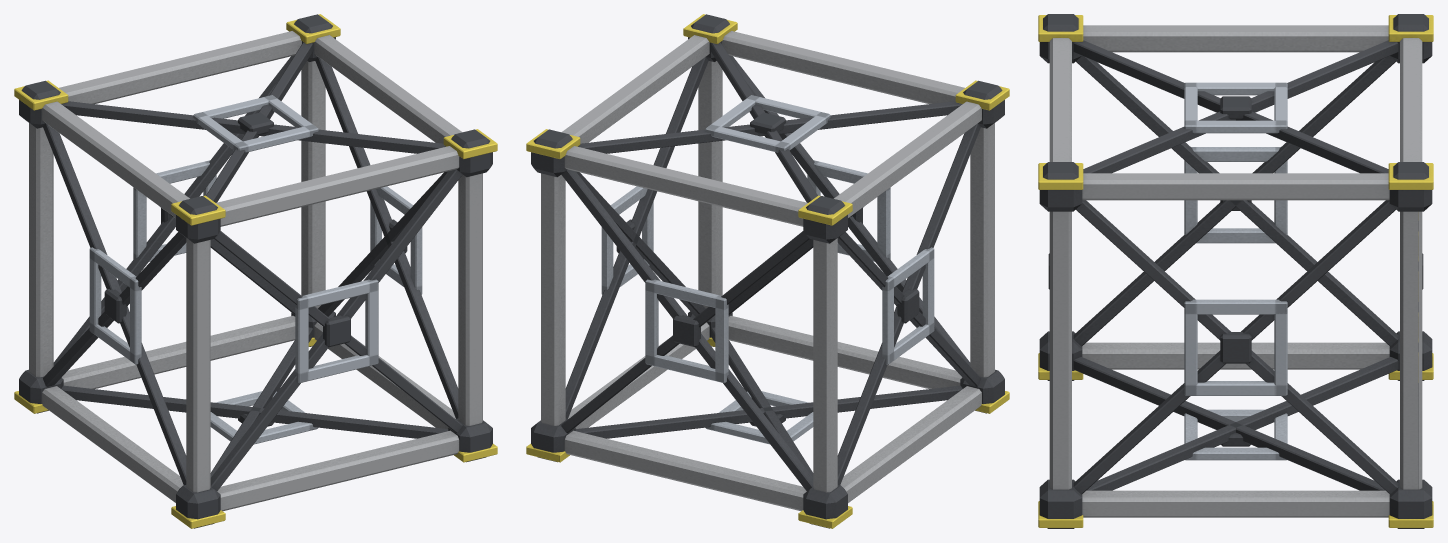
The model's file is SM_StructureFrame.fbx.
3 views of the same model, side by side, from view 1: azimuth 30°, elevation 25°; view 2: azimuth 150°, elevation 25°; view 3: azimuth 270°, elevation 25° (orthographic). The views are drawn at different scales.
Visible parts, largest first — view 1: SMN_StructureFrame; view 2: SMN_StructureFrame; view 3: SMN_StructureFrame.
Boxes of the visible parts, x1,y1,x2,y2 form: SMN_StructureFrame: (14,14,497,528); SMN_StructureFrame: (526,14,1009,528); SMN_StructureFrame: (1038,14,1433,528).
Size of the model in its own units: 0.88 by 0.875 by 0.88.
